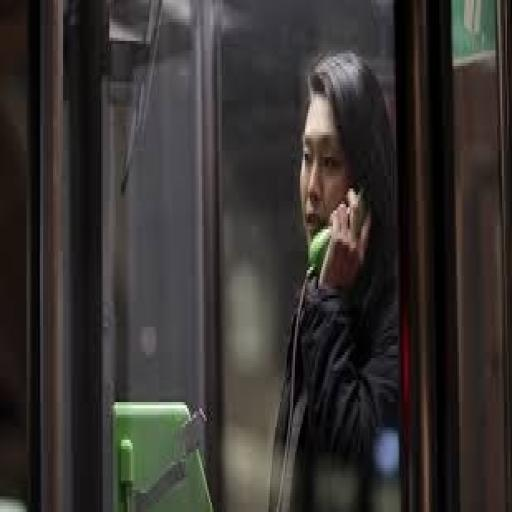calling: (265, 47, 403, 509)
